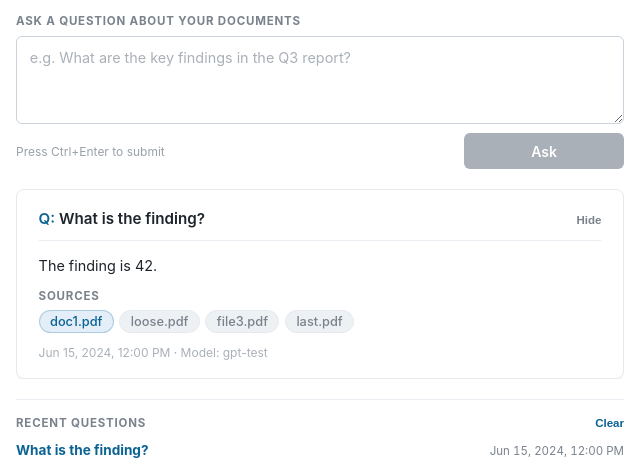
Test: QAPanel › clears history after confirmation
Click the button "Clear" at (610, 424), box [595,418,624,430]
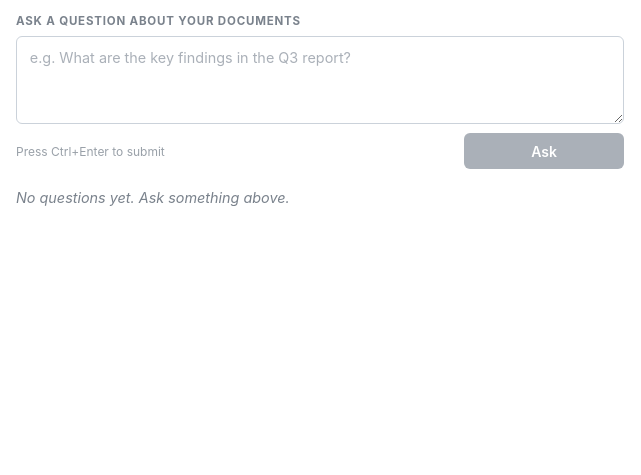
Now the text "No questions yet. Ask something above." is shown, box [16,189,290,206]
